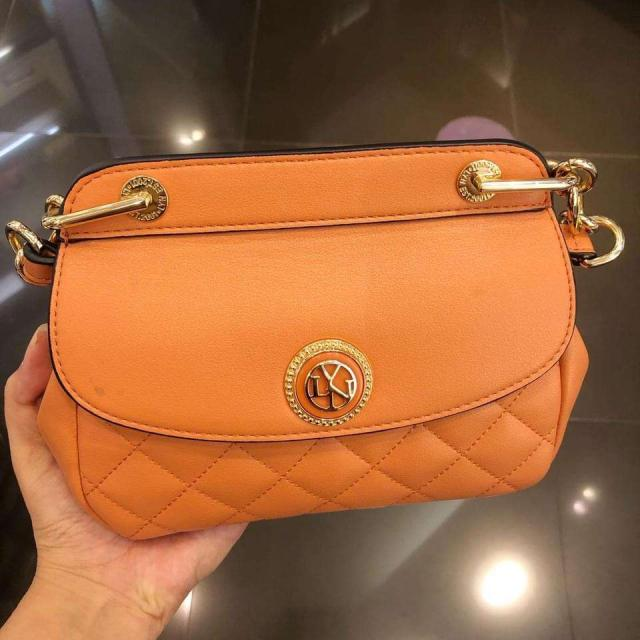handbag: (5, 139, 625, 540)
